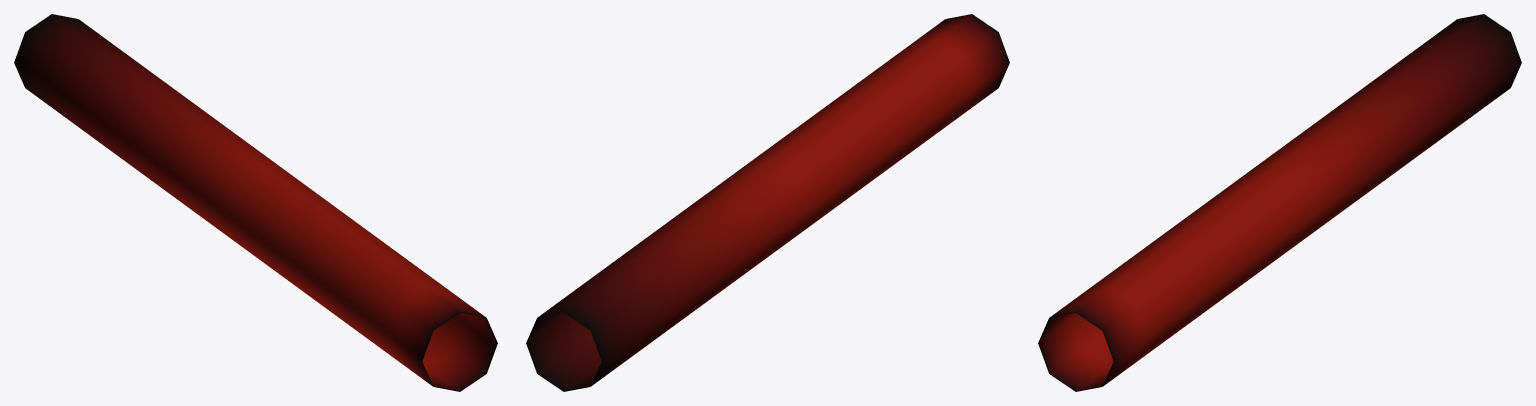
File: WindBeamRed.fbx
The picture shows the model from 3 angles, left to right: view 1: azimuth 30°, elevation 25°; view 2: azimuth 150°, elevation 25°; view 3: azimuth 330°, elevation 25°; orthographic projection.
Parts seen in each view (by area): view 1: Cylinder002; view 2: Cylinder002; view 3: Cylinder002.
Boxes of the visible parts, x1=… form: Cylinder002: x1=14, y1=14, x2=497, y2=391; Cylinder002: x1=526, y1=14, x2=1009, y2=391; Cylinder002: x1=1038, y1=14, x2=1521, y2=391.
Bounding box in the file's own units: 22.83 × 22.83 × 213.
